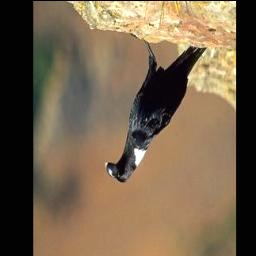Crow: (105, 33, 208, 185)
